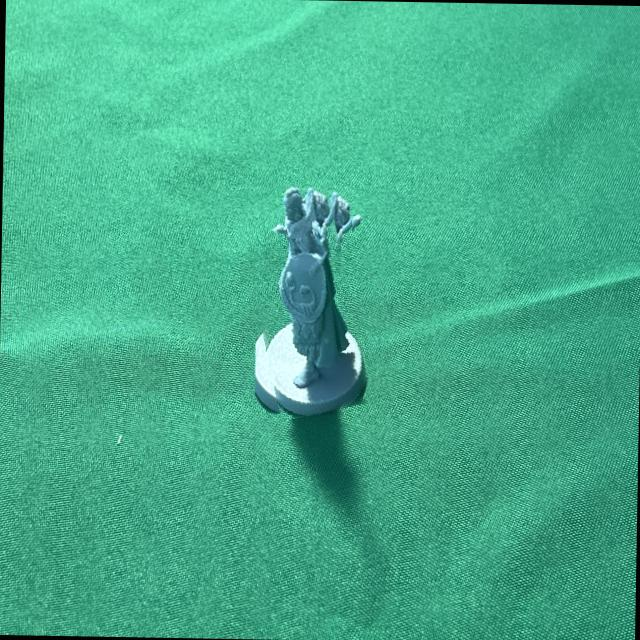isis_follower: (242, 178, 365, 418)
